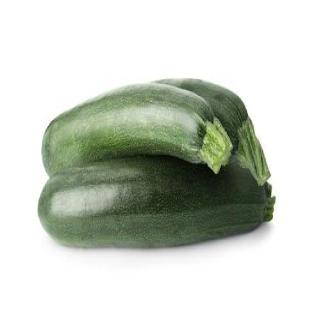Zucchini: (38, 156, 274, 247), (42, 83, 232, 175), (159, 80, 270, 184)
